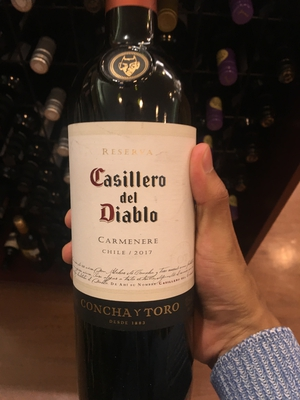casillero del diablo carmenere: (49, 25, 217, 393)
